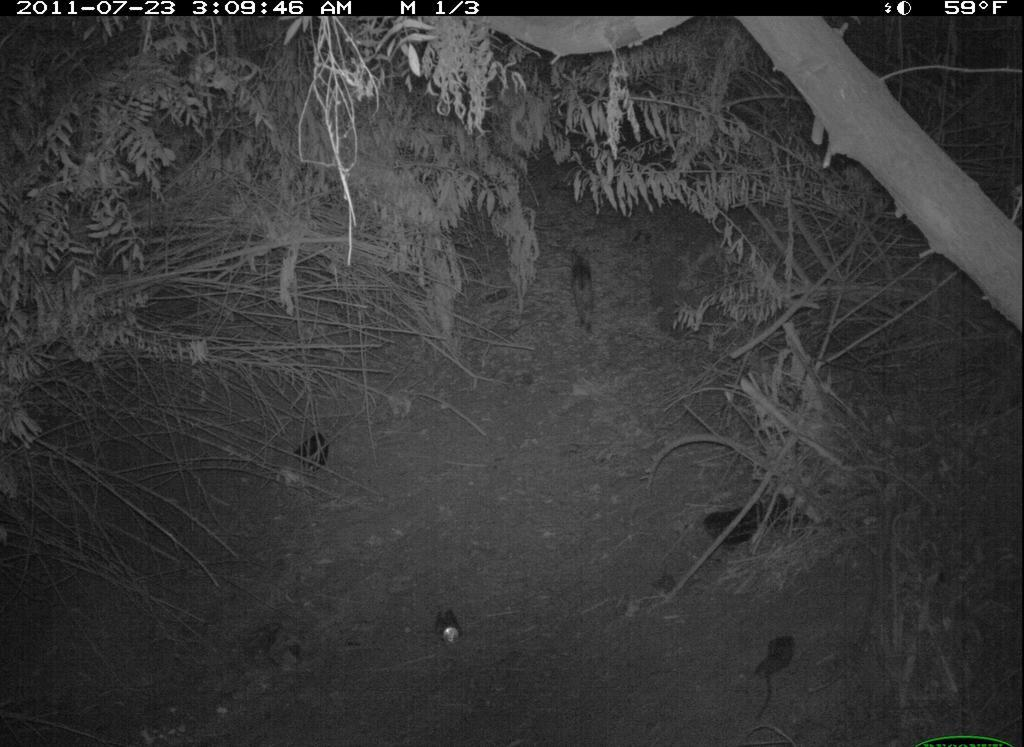bobcat: (568, 246, 603, 337)
